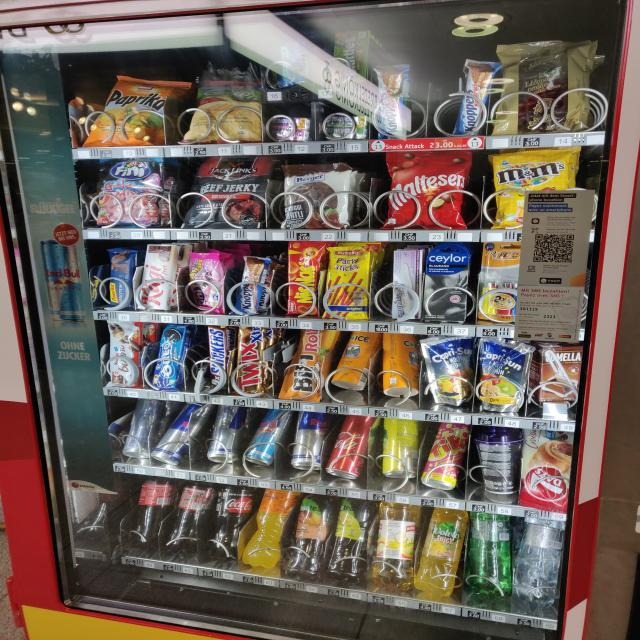7days_croissantschoko_packung_80_1_0000000000003: (522, 431, 578, 511)
bifi_roll__50__4251097402635: (278, 328, 335, 402)
bueno___43__4008400320328: (108, 321, 146, 387)
c-swiss_dosenabisicetea__33__9120025930135: (377, 334, 420, 399), (332, 333, 379, 392)
caferoyal_classicmacchiato__33__7617014164487: (471, 431, 525, 496)
caprisun_multivitamin__20__4000177605004: (416, 338, 482, 406), (473, 342, 531, 414)
coke__dose_33__54491472: (326, 419, 374, 479)
coke__flasche_50__54491472: (159, 482, 214, 552), (127, 481, 178, 544)
coke_zero_flasche_50__5449000131836: (206, 488, 256, 561)
comella_schokodrink__33__7613100037253: (533, 344, 587, 406)
fanta___50__40822938: (240, 486, 295, 572)
fini_galaxymix_packung_100_1_8410525150364: (94, 157, 168, 227)
fini_jellykisses_packung_80_1_8410525116704: (184, 252, 225, 318)
fuse_lemon__50__5449000235947: (325, 497, 373, 578)
fuse_lemon_dose_33__5449000235947: (378, 421, 422, 480)
fuse_peach__50__5449000236623: (284, 493, 334, 576)
jacklinks_beefjerkyorginal__25__4047751730219: (184, 154, 272, 230)
jlbrichard_gauffrechoko__90__5410495002079: (489, 40, 599, 136)
kagi___50__7610046000259: (136, 242, 179, 312)
knoppers_riegel____4035800488808: (230, 256, 270, 316)
lorenz_nicnacs__40__4018077798818: (270, 240, 325, 317)
malburner_partysticks__40__7610200279682: (320, 246, 372, 320)
maltesers___100__5000159023061: (377, 149, 477, 230)
mnms_gelb__45__40111445: (484, 148, 575, 228)
oreo___66__84100733: (152, 324, 191, 389)
powerbar_proteinplusschoko__55__4029679520028: (102, 248, 142, 310)
ramseier_schorle__50__7610057012456: (368, 503, 421, 595)
redbull___33__90162909: (150, 405, 198, 464), (289, 413, 335, 471), (120, 398, 158, 461), (204, 408, 244, 464)
redbull_light__33__90162800: (245, 414, 286, 465)
skittles_sour_riegel_51_1_0000000000004: (324, 27, 370, 86)
snickers___50__5000159461122: (203, 326, 232, 393)
stimorol_spearmint_riegel_14_1_0000000000005: (327, 114, 370, 142)
stimorol_wildcherry_riegel_14_1_57060330: (266, 112, 311, 140)
tiki_himbeer_brause__50__00000000009342: (423, 424, 471, 491)
twix___50__5000159459228: (232, 326, 273, 396)
valser_classic__50__76404160: (464, 517, 513, 598)
valser_still__50__7610335002575: (508, 522, 567, 608)
volvic_pinapple__50__305764335648: (418, 511, 468, 595)
zweifel_graneochilli__100__7610095184009: (174, 77, 264, 146)
zweifel_paprika__90__7610095013002: (84, 77, 181, 149)
